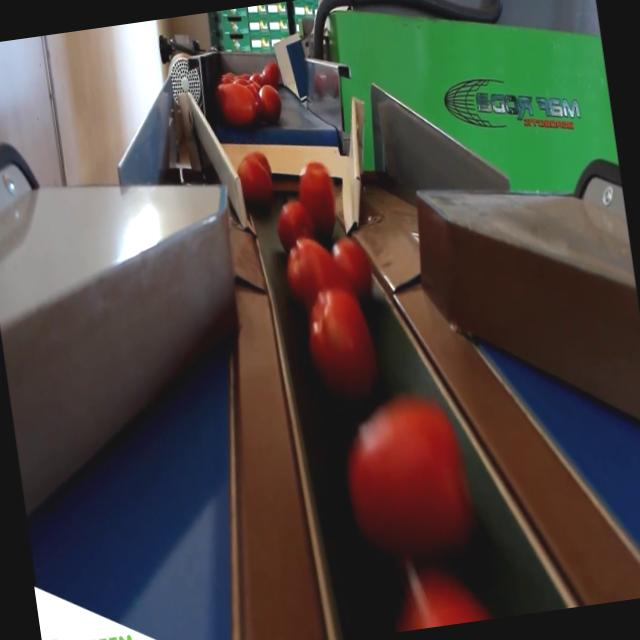Tomato: (338, 392, 476, 552), (301, 287, 375, 395), (394, 575, 490, 632), (282, 232, 346, 302), (297, 157, 343, 240), (327, 229, 378, 293), (235, 156, 279, 211), (272, 197, 312, 250), (218, 80, 258, 129), (256, 86, 284, 120), (262, 60, 280, 84)
